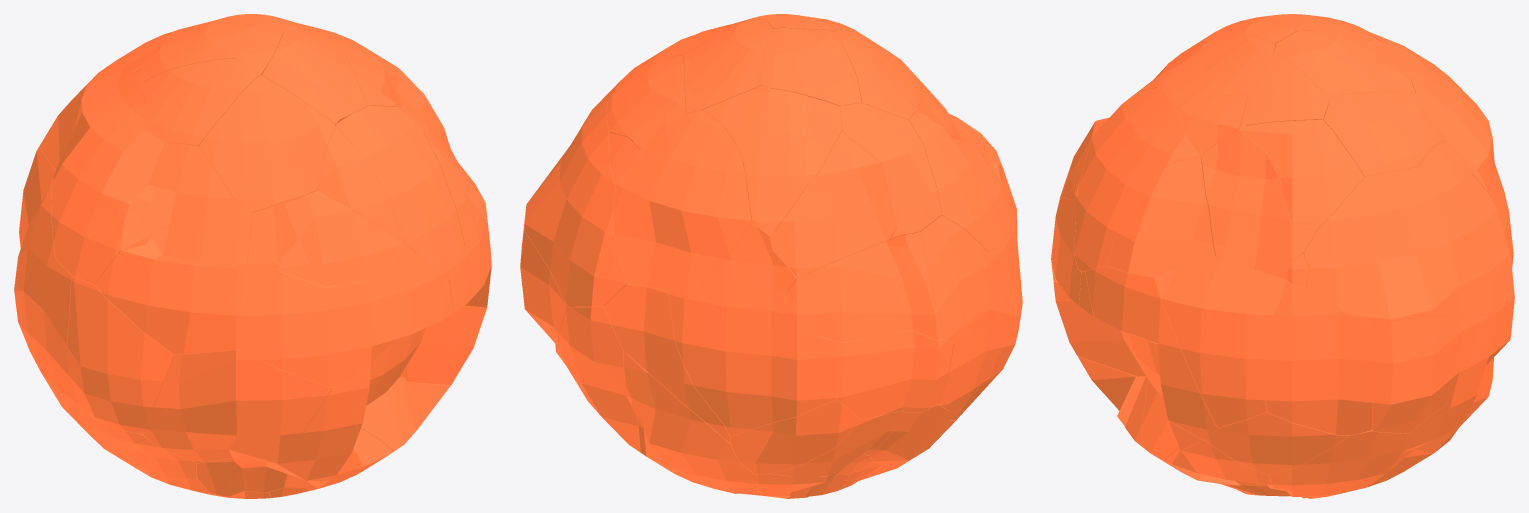
The model's file is astro1.glb.
3 renders of one model, left to right at view 1: azimuth 30°, elevation 25°; view 2: azimuth 150°, elevation 25°; view 3: azimuth 270°, elevation 25°, orthographic.
Parts seen in each view (by area): view 1: Sphere_cell.004, Sphere_cell.056, Sphere_cell.081, Sphere_cell.014, Sphere_cell.071, Sphere_cell.015, Sphere_cell.018, Sphere_cell.027, Sphere_cell.090, Sphere_cell.058, Sphere_cell.063, Sphere_cell.032 (+26 smaller); view 2: Sphere_cell.083, Sphere_cell, Sphere_cell.072, Sphere_cell.079, Sphere_cell.078, Sphere_cell.064, Sphere_cell.092, Sphere_cell.035, Sphere_cell.071, Sphere_cell.055, Sphere_cell.042, Sphere_cell.012 (+24 smaller); view 3: Sphere_cell.072, Sphere_cell.002, Sphere_cell.038, Sphere_cell.060, Sphere_cell.006, Sphere_cell.018, Sphere_cell.001, Sphere_cell.039, Sphere_cell.026, Sphere_cell.059, Sphere_cell.010, Sphere_cell.063 (+24 smaller).
Boxes of the visible parts, bbox=[...] form: Sphere_cell.004: bbox=[238, 194, 445, 386]; Sphere_cell.056: bbox=[94, 201, 252, 354]; Sphere_cell.081: bbox=[143, 349, 331, 463]; Sphere_cell.014: bbox=[199, 75, 334, 212]; Sphere_cell.071: bbox=[51, 123, 168, 284]; Sphere_cell.015: bbox=[67, 276, 173, 434]; Sphere_cell.018: bbox=[335, 106, 464, 282]; Sphere_cell.027: bbox=[277, 190, 403, 286]; Sphere_cell.090: bbox=[129, 58, 258, 146]; Sphere_cell.058: bbox=[121, 142, 235, 249]; Sphere_cell.063: bbox=[261, 31, 367, 125]; Sphere_cell.032: bbox=[21, 258, 79, 406]; Sphere_cell.083: bbox=[613, 110, 751, 290]; Sphere_cell: bbox=[668, 285, 836, 436]; Sphere_cell.072: bbox=[524, 102, 627, 306]; Sphere_cell.079: bbox=[788, 232, 944, 342]; Sphere_cell.078: bbox=[771, 131, 895, 277]; Sphere_cell.064: bbox=[817, 330, 953, 419]; Sphere_cell.092: bbox=[624, 351, 754, 482]; Sphere_cell.035: bbox=[742, 88, 808, 234]; Sphere_cell.071: bbox=[908, 101, 1009, 251]; Sphere_cell.055: bbox=[839, 103, 941, 242]; Sphere_cell.042: bbox=[604, 283, 731, 442]; Sphere_cell.012: bbox=[556, 306, 641, 453]; Sphere_cell.072: bbox=[1303, 167, 1513, 325]; Sphere_cell.002: bbox=[1153, 256, 1285, 427]; Sphere_cell.038: bbox=[1265, 280, 1372, 435]; Sphere_cell.060: bbox=[1367, 315, 1494, 433]; Sphere_cell.006: bbox=[1200, 124, 1320, 280]; Sphere_cell.018: bbox=[1074, 87, 1200, 271]; Sphere_cell.001: bbox=[1106, 156, 1214, 276]; Sphere_cell.039: bbox=[1085, 265, 1217, 439]; Sphere_cell.026: bbox=[1240, 120, 1363, 227]; Sphere_cell.059: bbox=[1323, 92, 1444, 177]; Sphere_cell.010: bbox=[1273, 30, 1415, 106]; Sphere_cell.063: bbox=[1158, 33, 1275, 106].
Bounding box in the file's own units: 2 × 2.06 × 1.92.
